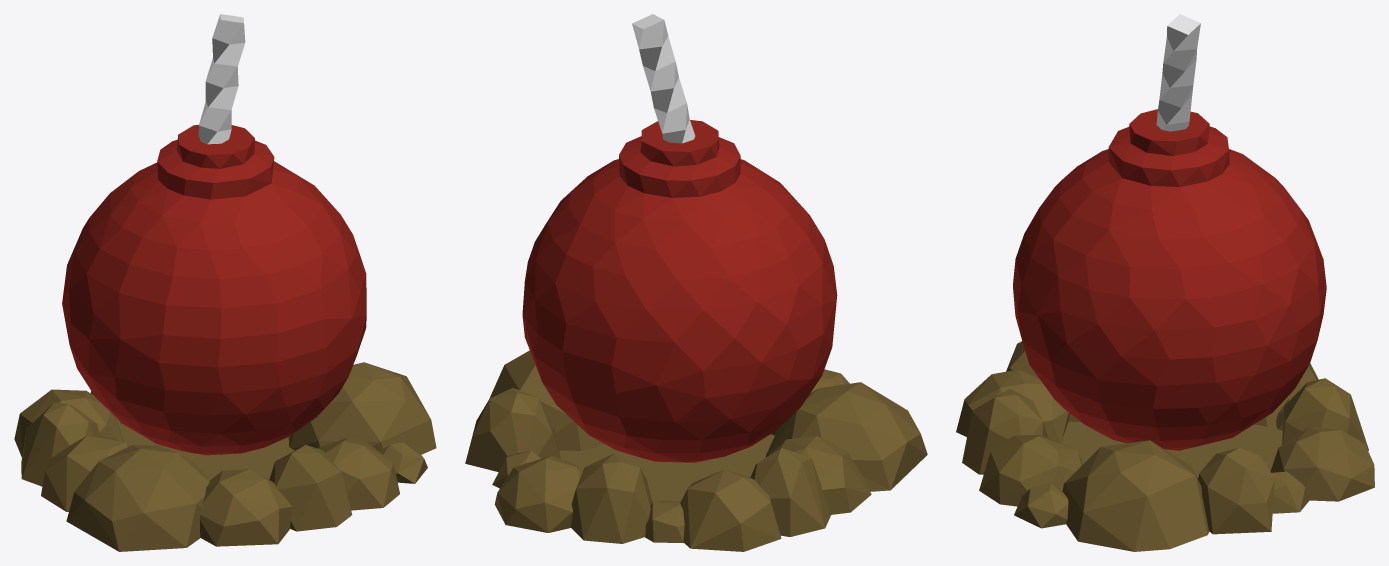
Rendered from bomba.fbx.
The picture shows the model from 3 angles, left to right: view 1: azimuth 30°, elevation 25°; view 2: azimuth 150°, elevation 25°; view 3: azimuth 270°, elevation 25°; orthographic projection. The views are drawn at different scales.
Visible parts, largest first — view 1: Bomba, Hueco_Bomba; view 2: Bomba, Hueco_Bomba; view 3: Bomba, Hueco_Bomba.
Part boxes in pixels (<box>): Bomba: <box>62,14,366,455</box>; Hueco_Bomba: <box>14,362,436,551</box>; Bomba: <box>522,14,837,462</box>; Hueco_Bomba: <box>465,350,927,551</box>; Bomba: <box>1013,14,1326,450</box>; Hueco_Bomba: <box>956,341,1374,551</box>.
Bounding box in the file's own units: 282 × 312 × 267.
